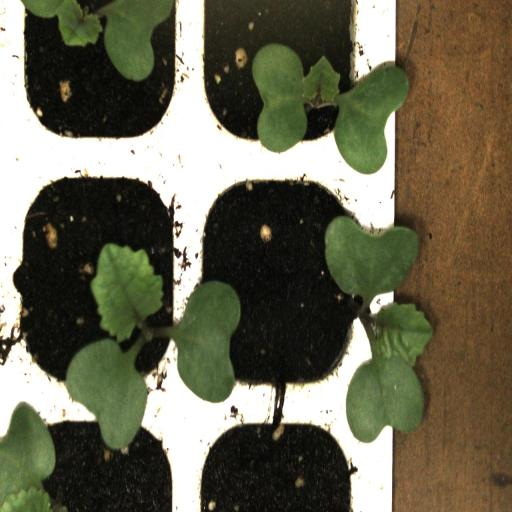Folha: (346, 303, 432, 443), (164, 280, 241, 403), (324, 215, 419, 304)
Germinacao: (193, 169, 391, 412), (8, 166, 200, 406), (193, 0, 370, 166), (11, 0, 189, 161)
